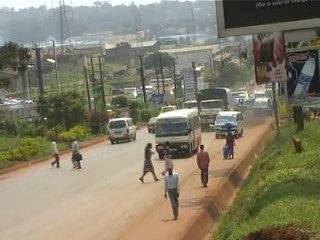Car: (146, 115, 158, 134)
